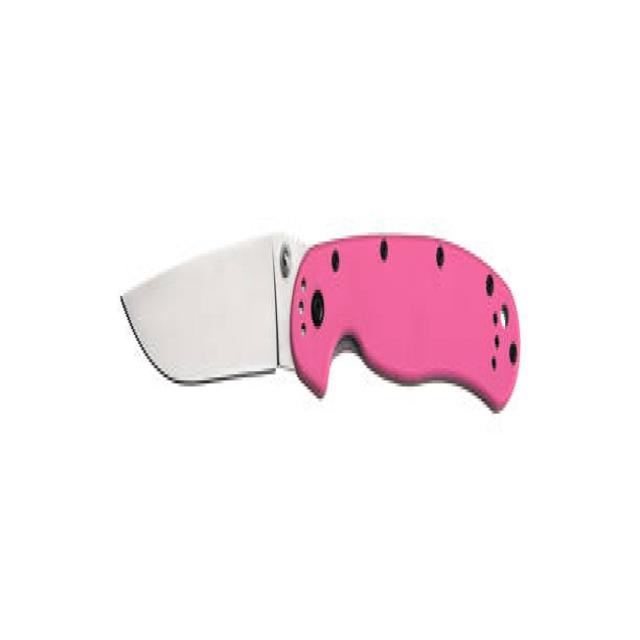knife: (119, 226, 528, 440)
